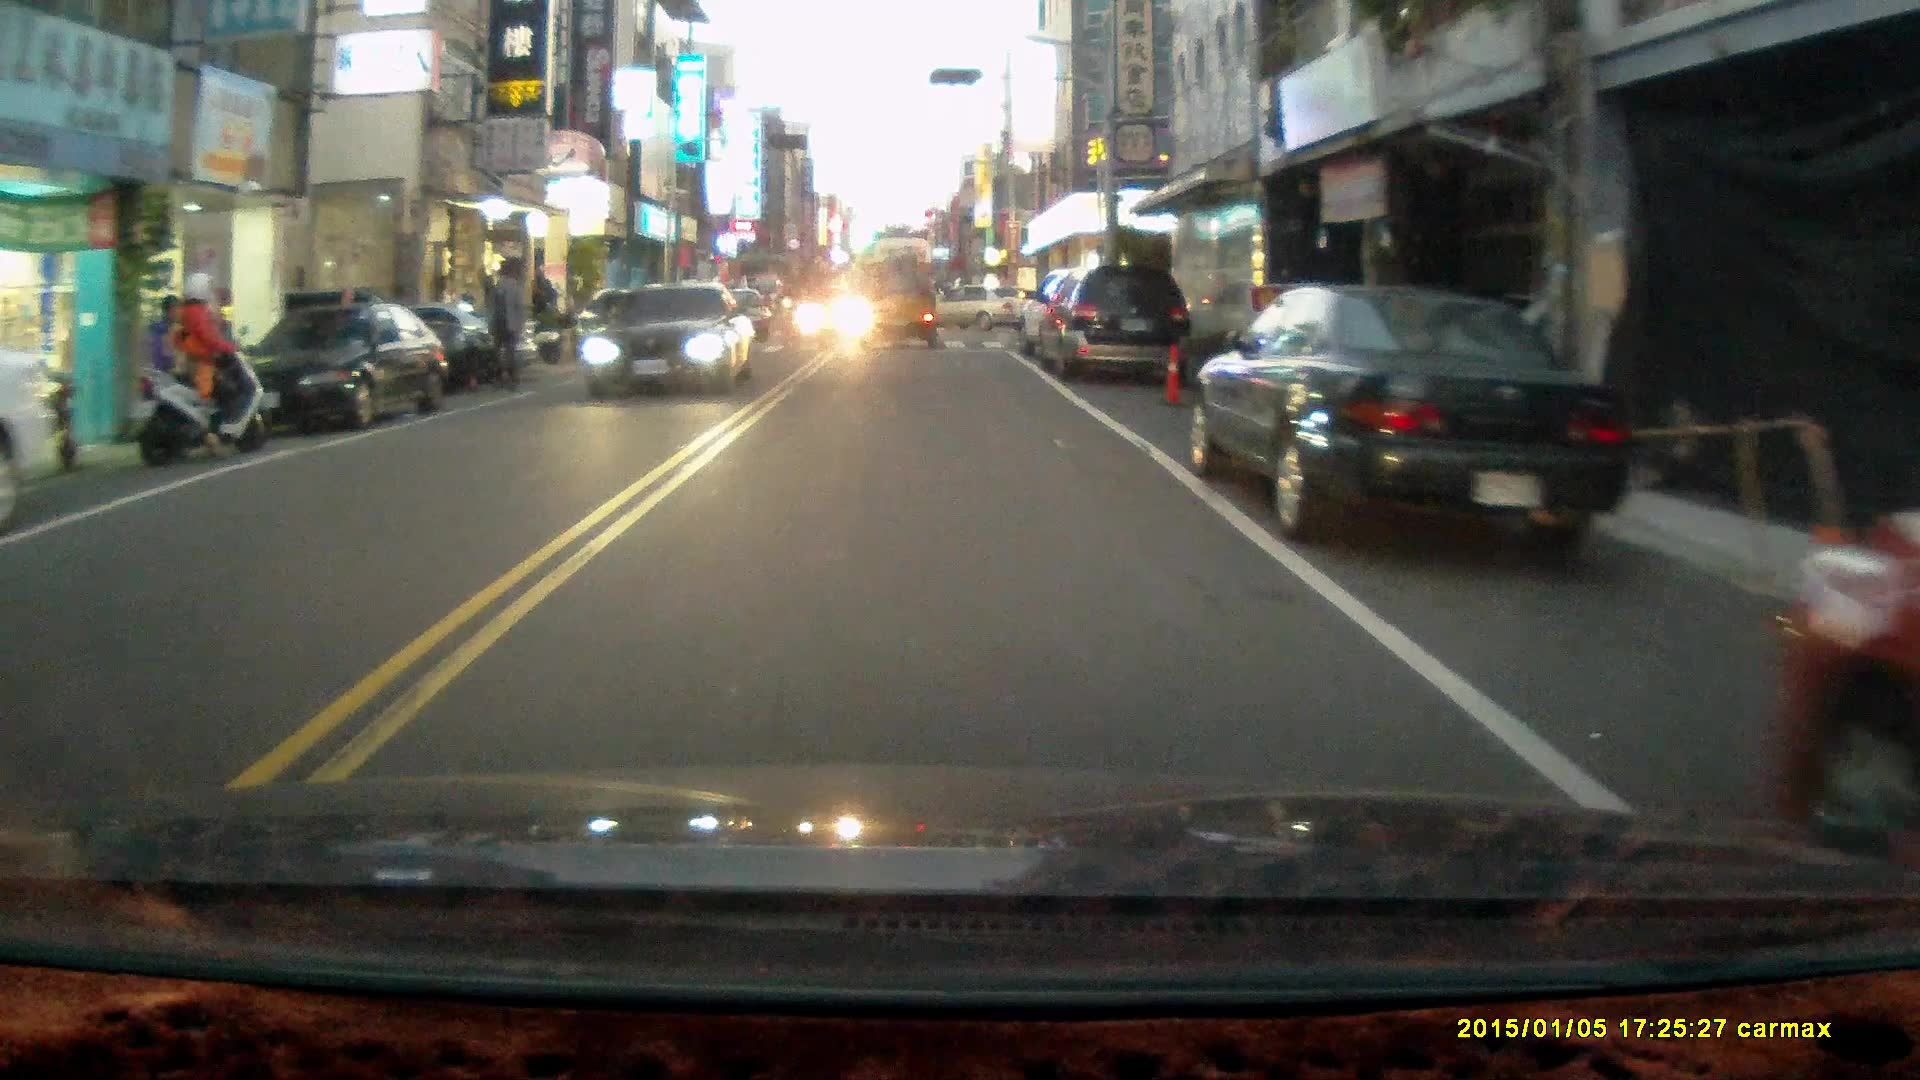pedestrian: (481, 263, 526, 394)
rider: (134, 268, 269, 460)
vehicle: (1185, 279, 1635, 562), (1768, 500, 1920, 886), (224, 299, 444, 431), (583, 279, 759, 395), (1031, 262, 1197, 381), (863, 263, 943, 353), (913, 285, 1043, 336)
